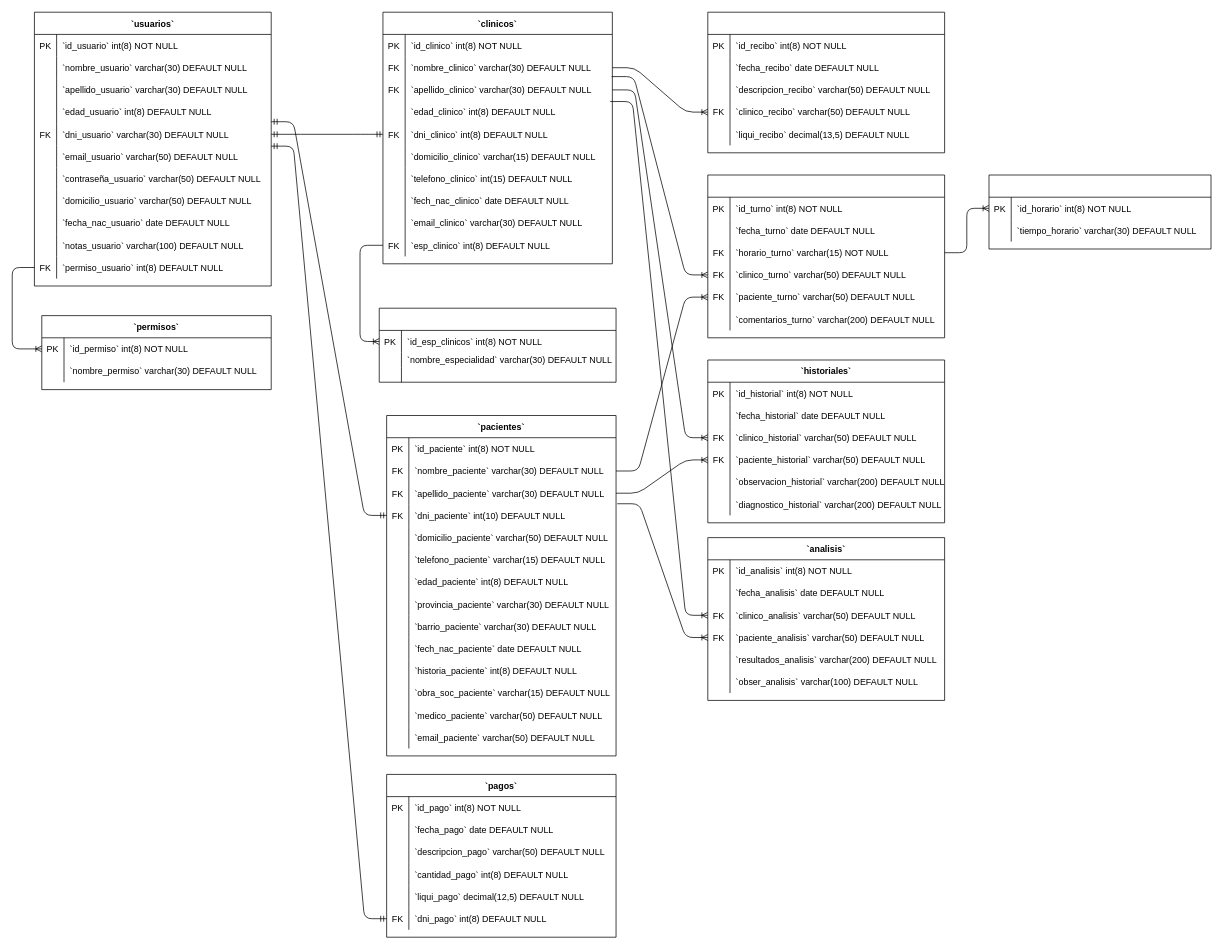
The diagram is 1223 pixels wide and 949 high, and some of its shapes have lost their labels. Here are the shapes that lost their labels. From the top down, the box of each, then its label:
(707, 11, 945, 153): `recibos`
(988, 174, 1211, 249): `horarios`
(707, 174, 945, 338): `turnos`
(379, 307, 616, 382): `especialidades`
